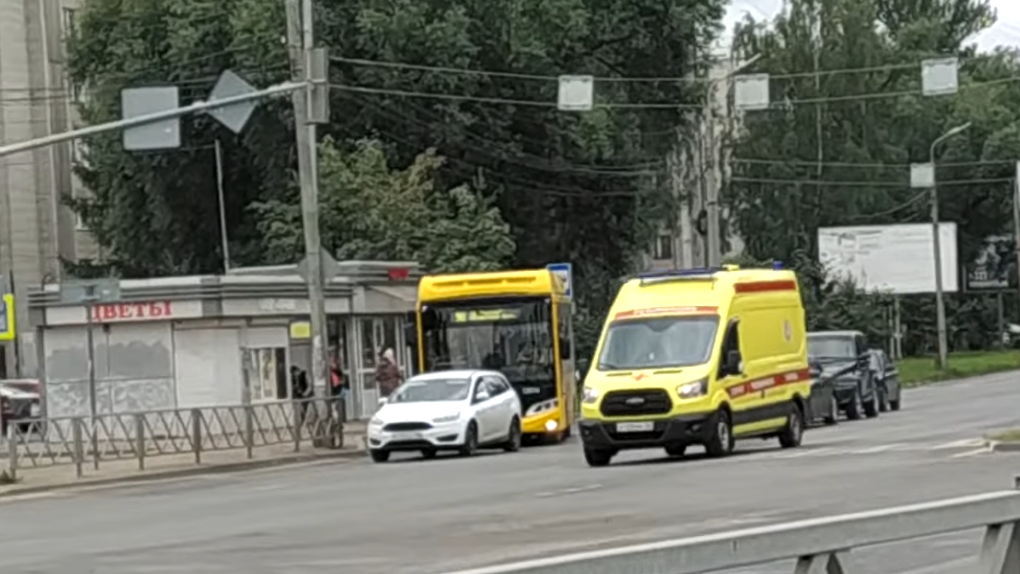intensive care unit: (581, 272, 806, 467)
non emergency car: (413, 271, 576, 445), (367, 371, 521, 463)
